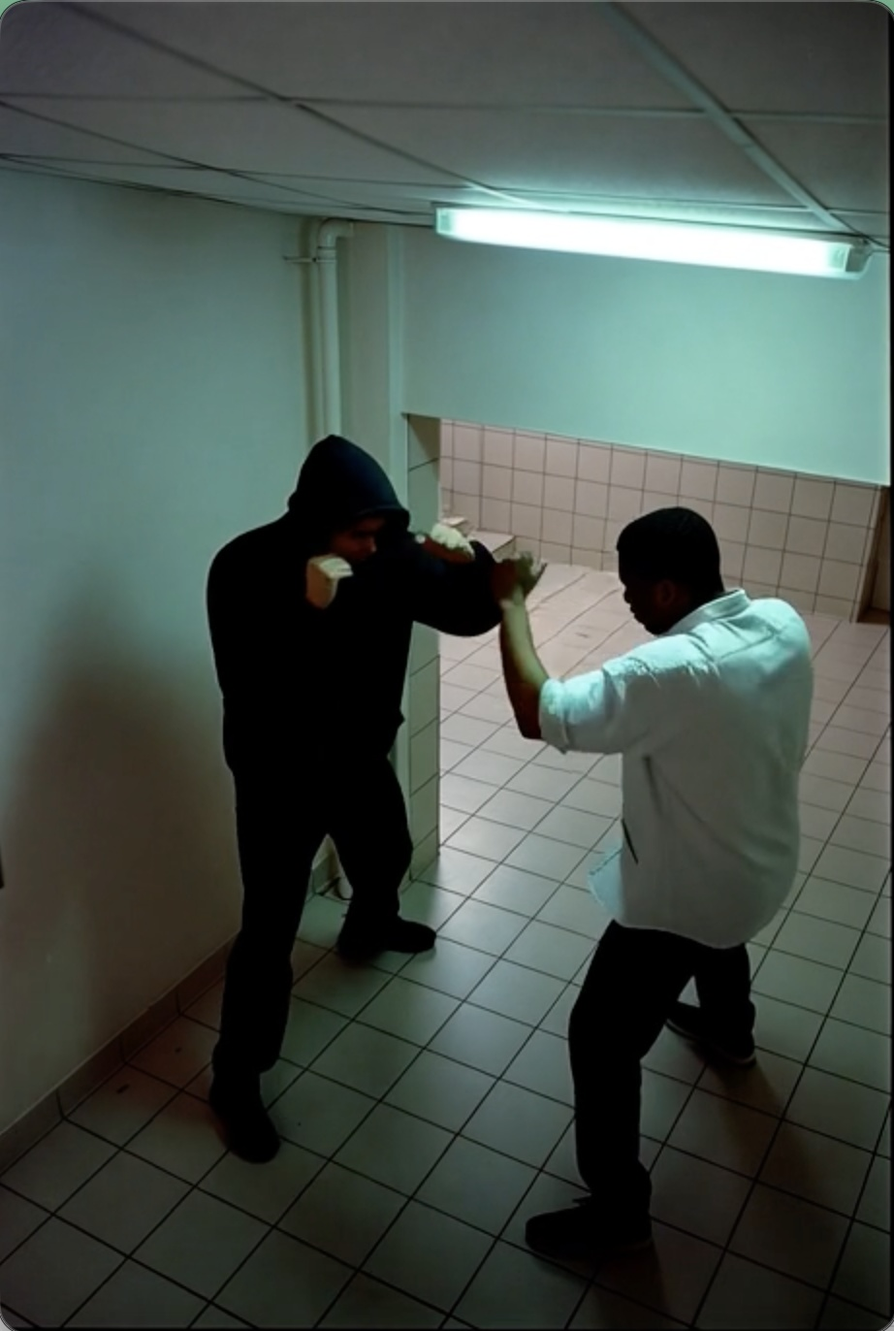Assault: (492, 507, 815, 1266)
Fighting: (203, 433, 503, 1168)
